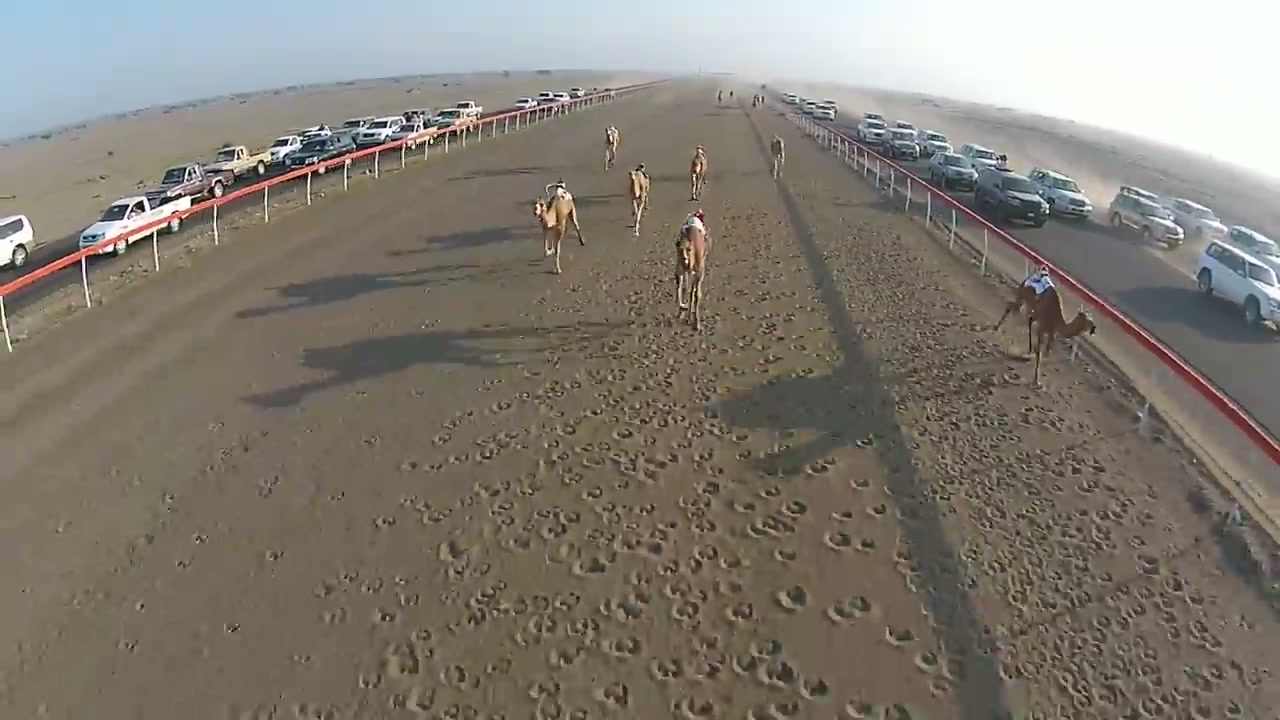animal_foot_print: (297, 183, 1270, 718)
